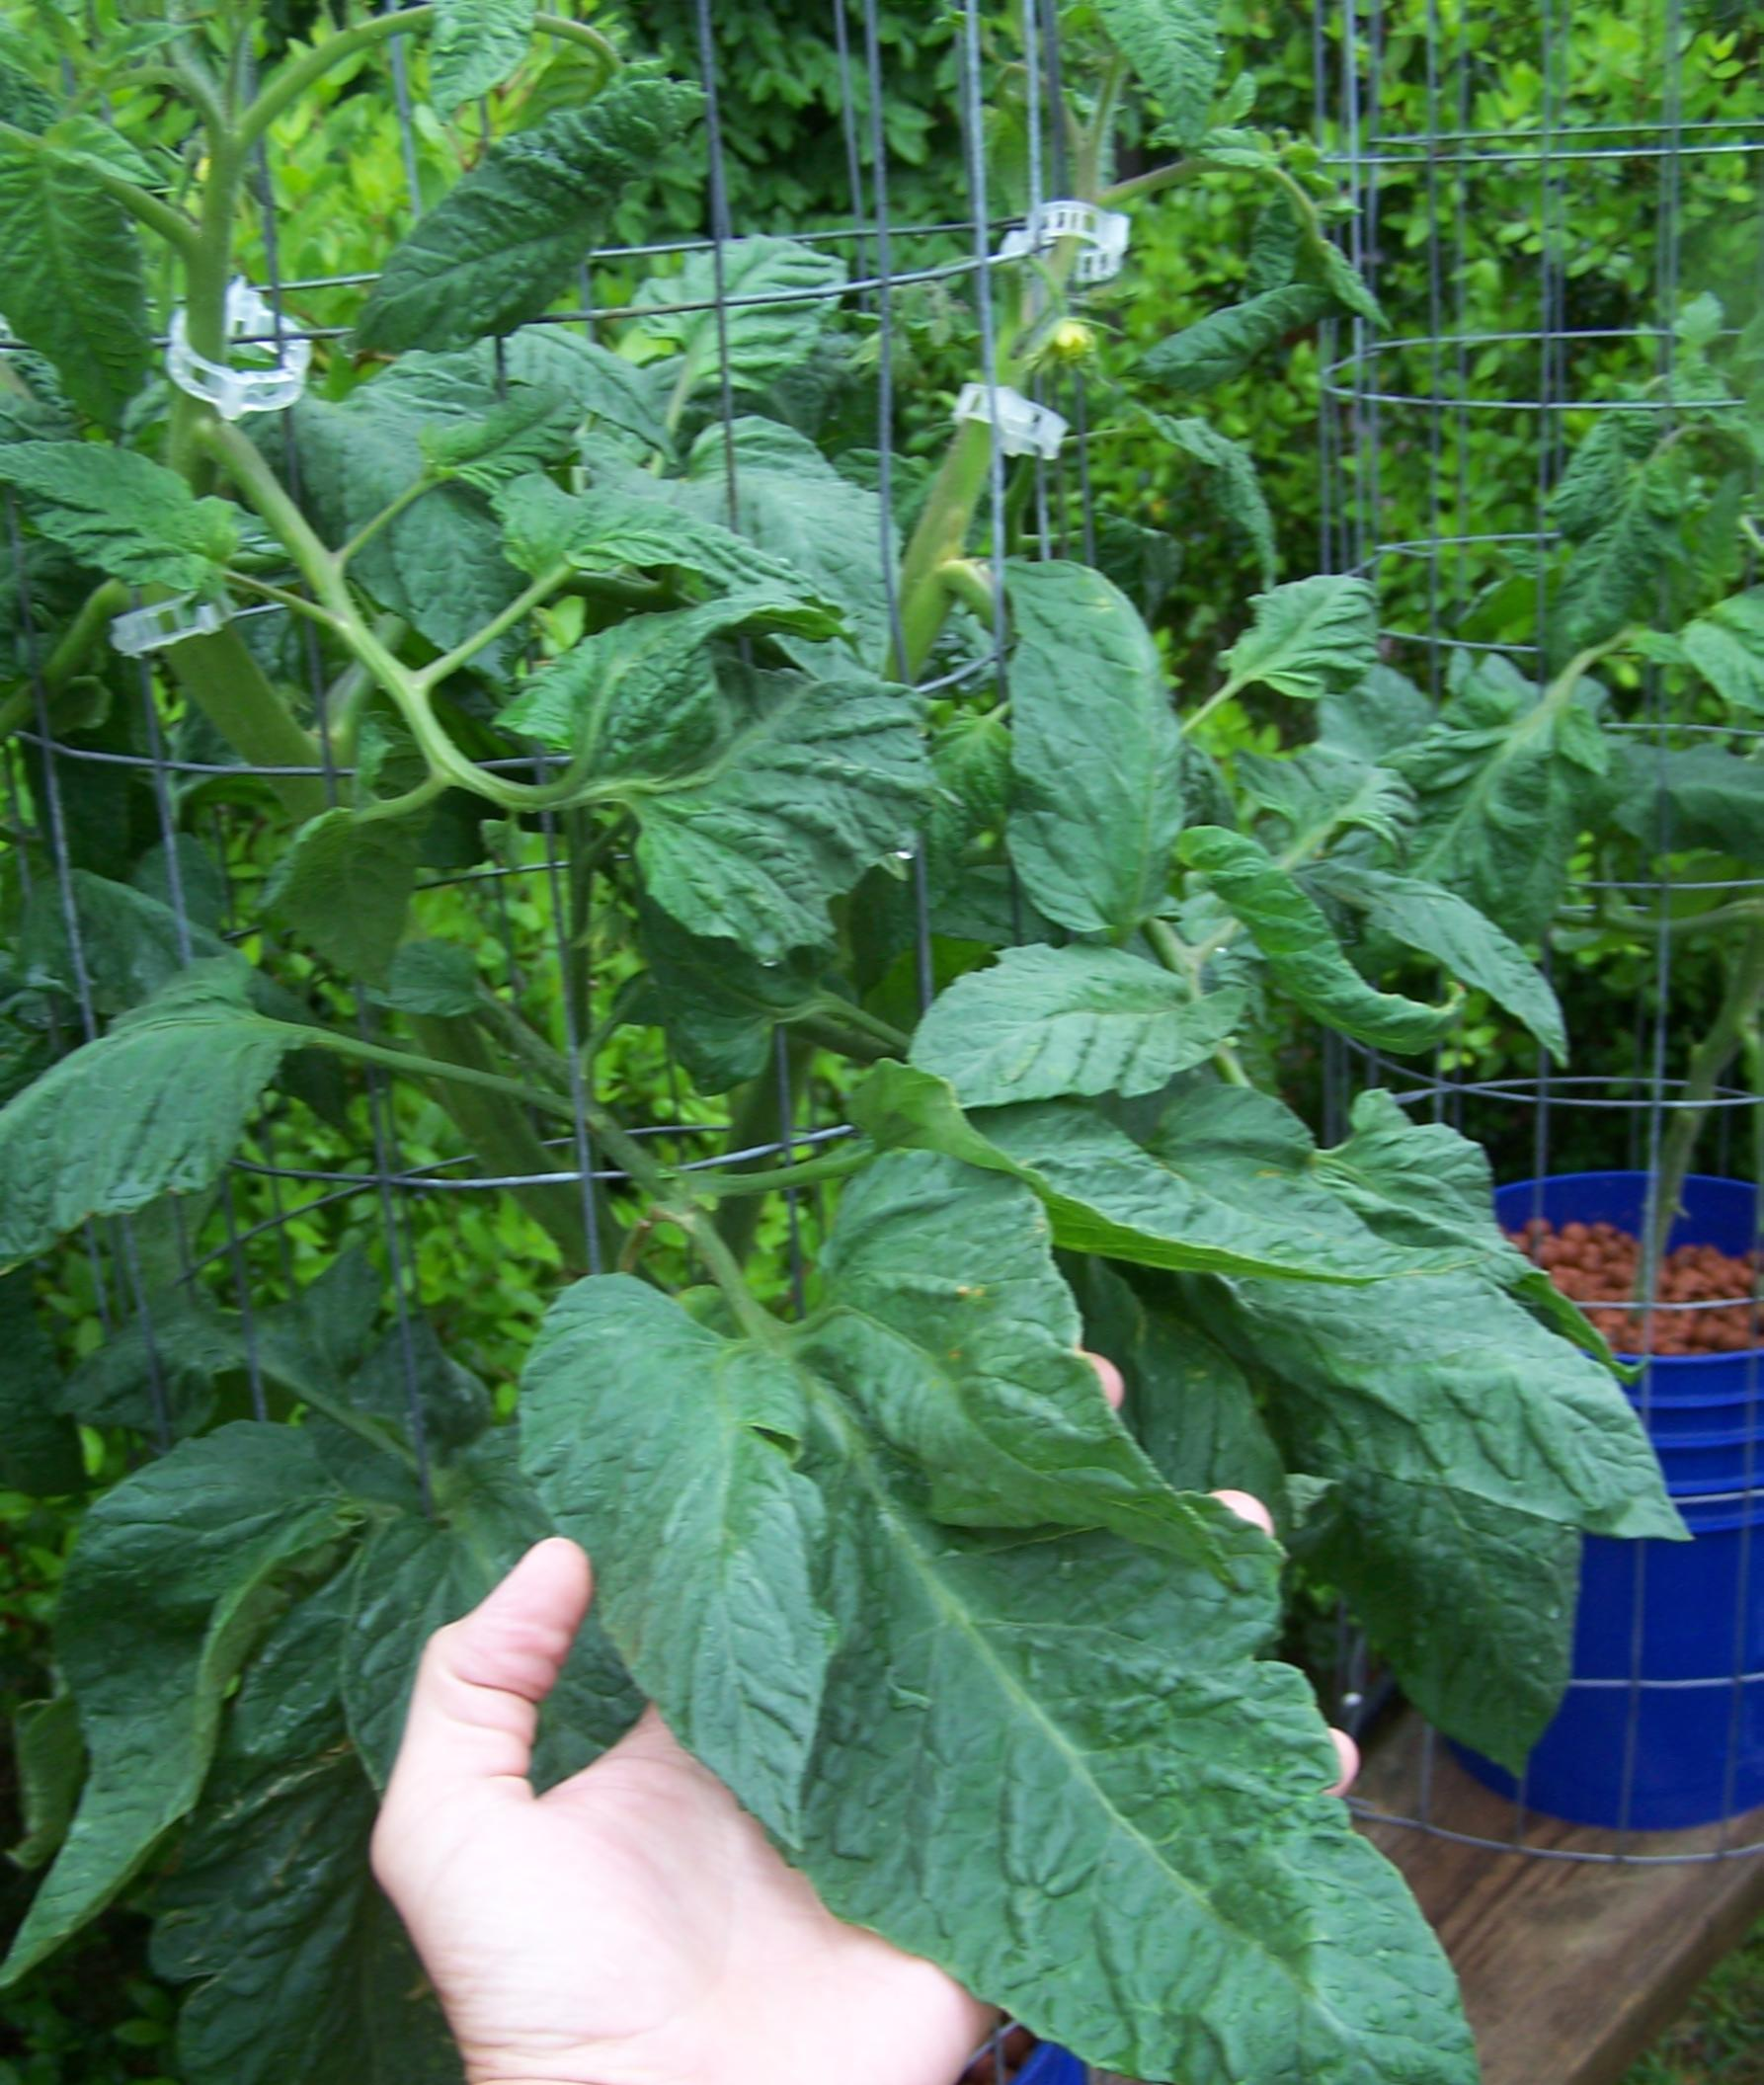Tomato leaf: (570, 1263, 1519, 2085), (1064, 1123, 1690, 1552), (968, 563, 1181, 980), (0, 990, 266, 1275), (611, 693, 919, 929), (870, 964, 1241, 1133), (0, 394, 247, 614), (1211, 560, 1400, 698)
